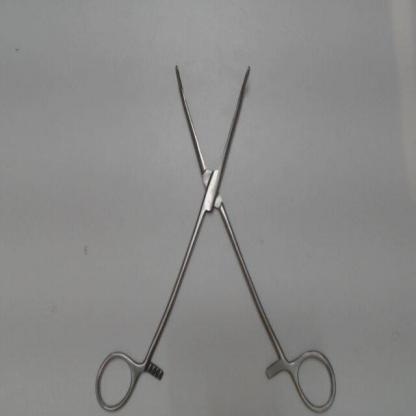Lahey Forceps: (92, 56, 341, 415)
